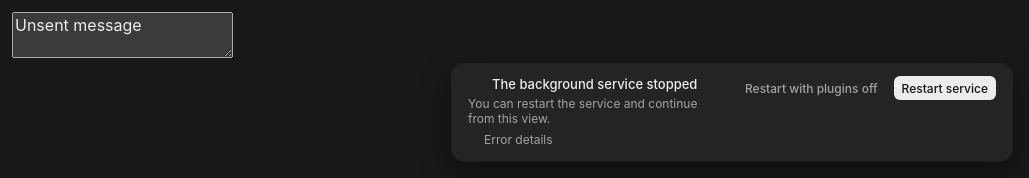
Test: renderer service recovery › shows recovery controls without unmounting the current view or input
The width and height of the screenshot is (1029, 178).
Click the button "Restart with plugins off".
click(811, 88)  # box top-left (737, 76), bottom-right (886, 100)
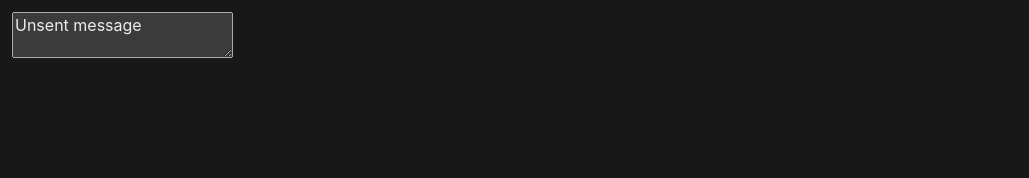
expect the text box holds "Unsent message": met, box top-left (12, 12), bottom-right (233, 58)
expect the message with class "runtime-notice" is gone: met
